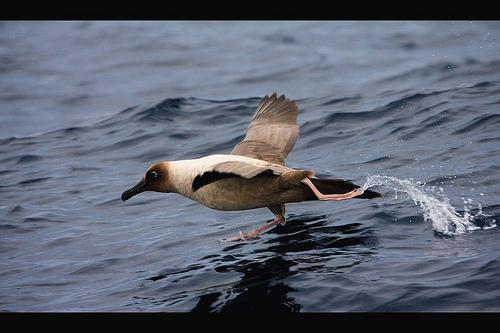003.Sooty_Albatross: (119, 94, 383, 244)
